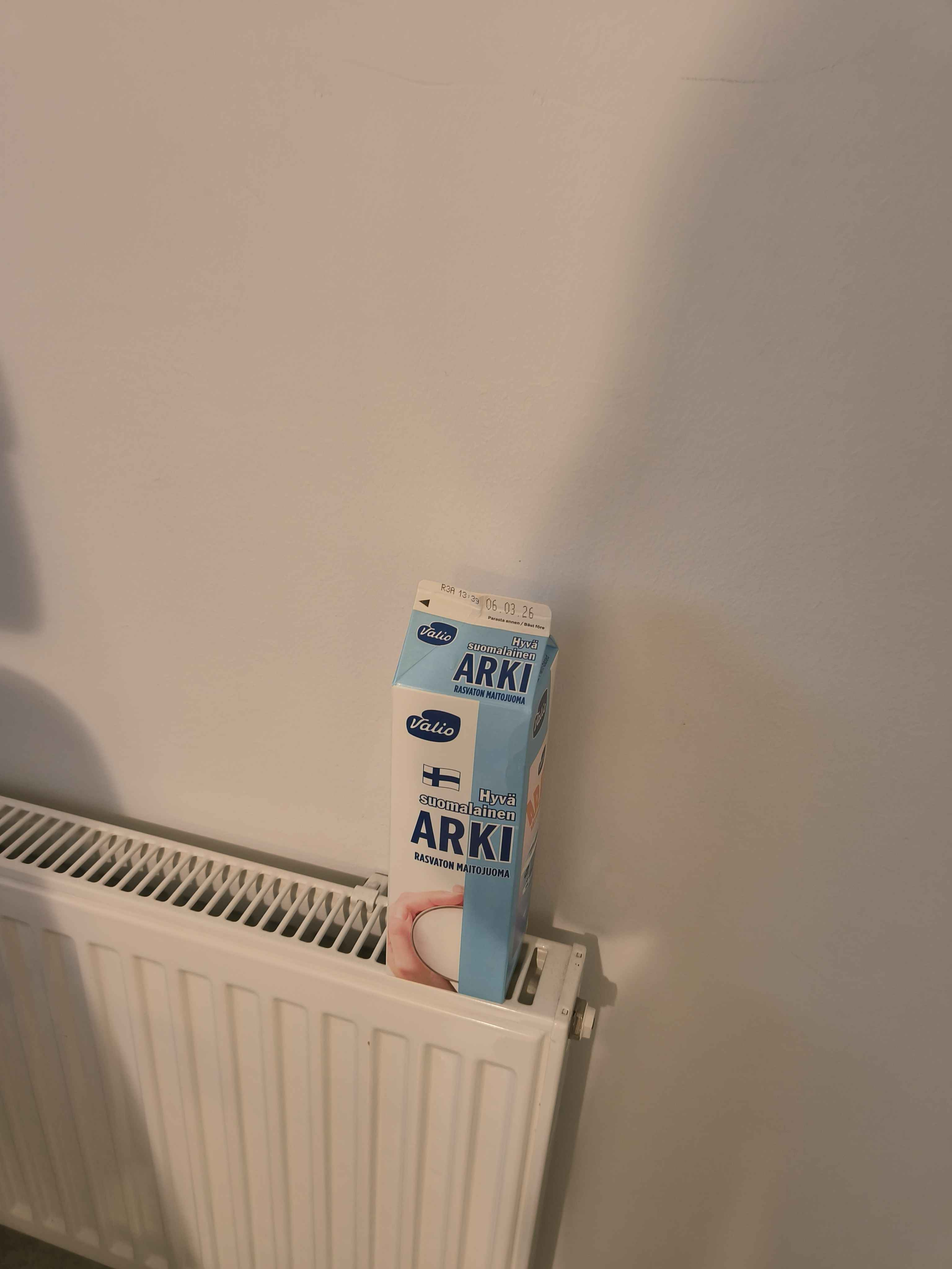Dryckeskartong: (384, 579, 560, 1005)
